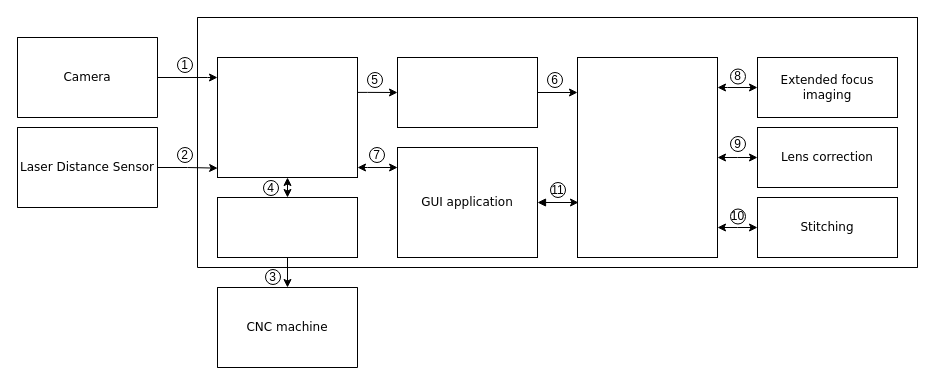
This 935x385 diagram has some shape labels left out. The shapes that lost their labels are listed below. From the top down, each one's box as (x1, y1, x2, y2) in pixels, then its label:
(396, 56, 538, 128): Document image store
(216, 56, 358, 178): Python acquisition interface
(196, 16, 918, 268): Workstation
(576, 56, 718, 258): Python analyse interface
(216, 196, 358, 258): LinuxCNC
